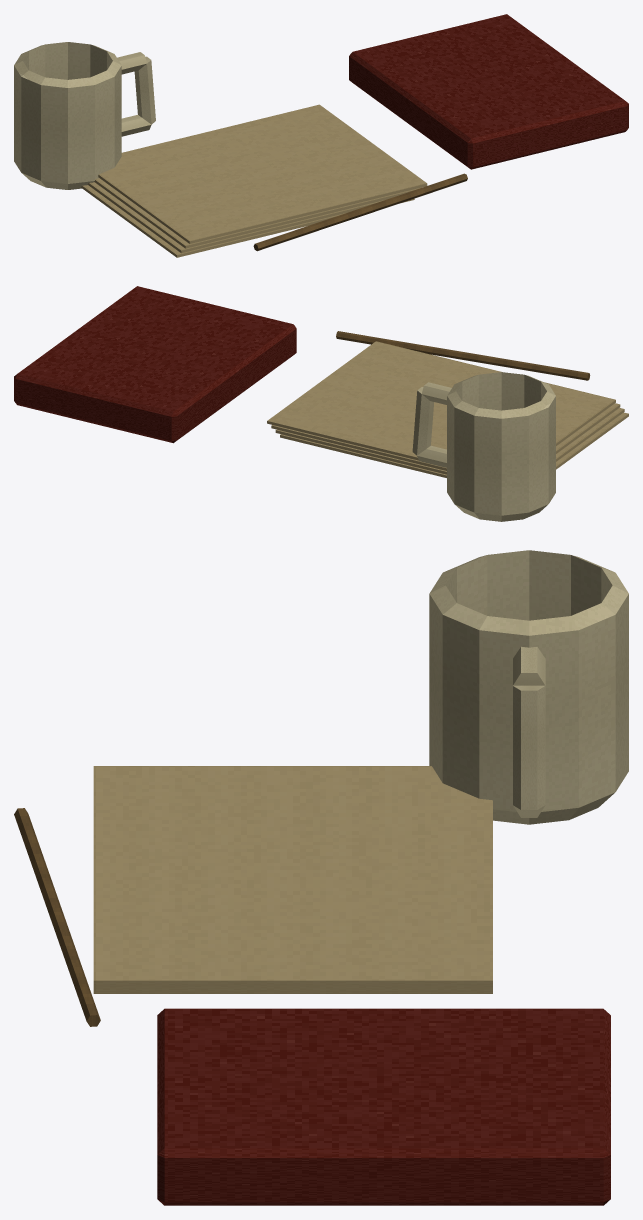
File: level_lived_desk_clutter.glb
3 views of the same model, one above another, from view 1: azimuth 30°, elevation 25°; view 2: azimuth 150°, elevation 25°; view 3: azimuth 270°, elevation 25° (orthographic). The views are drawn at different scales.
Visible parts, largest first — view 1: level_lived_desk_clutter; view 2: level_lived_desk_clutter; view 3: level_lived_desk_clutter.
Boxes of the visible parts, box(x1,y1,x2,y2) form: level_lived_desk_clutter: box(14, 14, 628, 257); level_lived_desk_clutter: box(14, 286, 628, 521); level_lived_desk_clutter: box(14, 550, 628, 1205).
Size of the model in its own units: 0.6 by 0.125 by 0.339.
4 materials, 4 textured.
